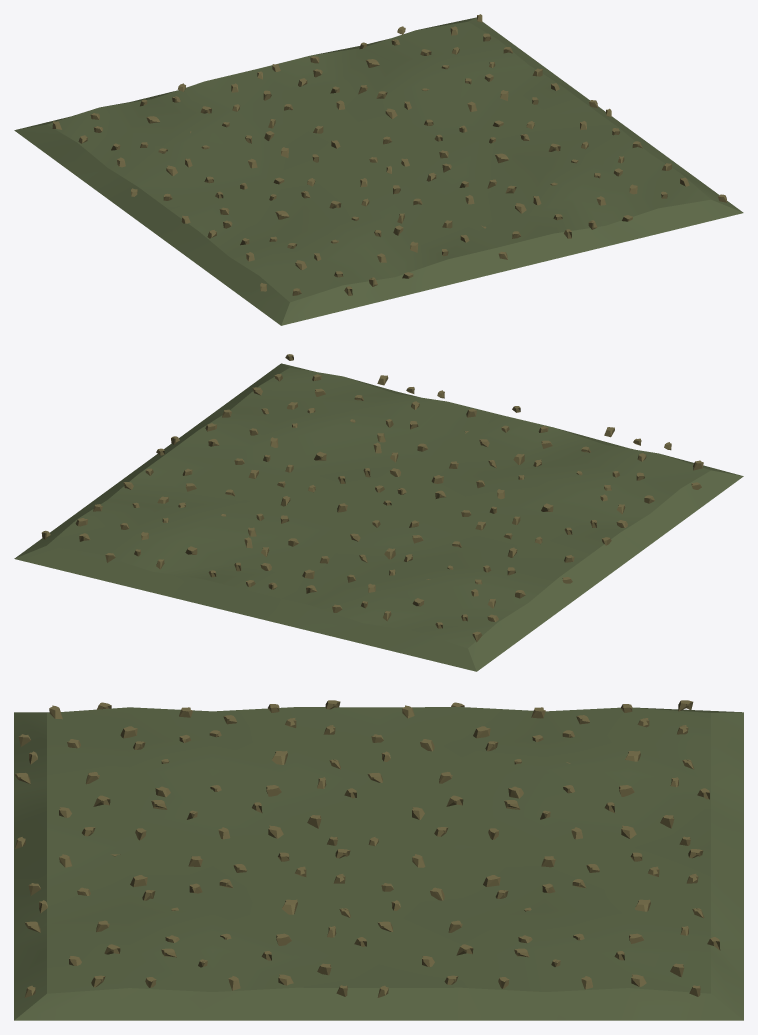
File: shopped32x32.FBX
The picture shows the model from 3 angles, top to bottom: view 1: azimuth 30°, elevation 25°; view 2: azimuth 150°, elevation 25°; view 3: azimuth 270°, elevation 25°; orthographic projection. The views are drawn at different scales.
Visible parts, largest first — view 1: Plane007; view 2: Plane007; view 3: Plane007.
Part boxes in pixels (x1=…): Plane007: x1=14, y1=14, x2=743, y2=325; Plane007: x1=14, y1=354, x2=743, y2=671; Plane007: x1=14, y1=700, x2=743, y2=1020.
Bounding box in the file's own units: 35.16 × 35.16 × 1.39.
